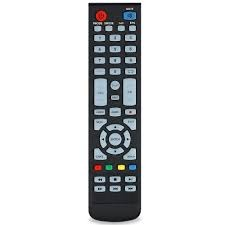remote control: (90, 0, 143, 220)
